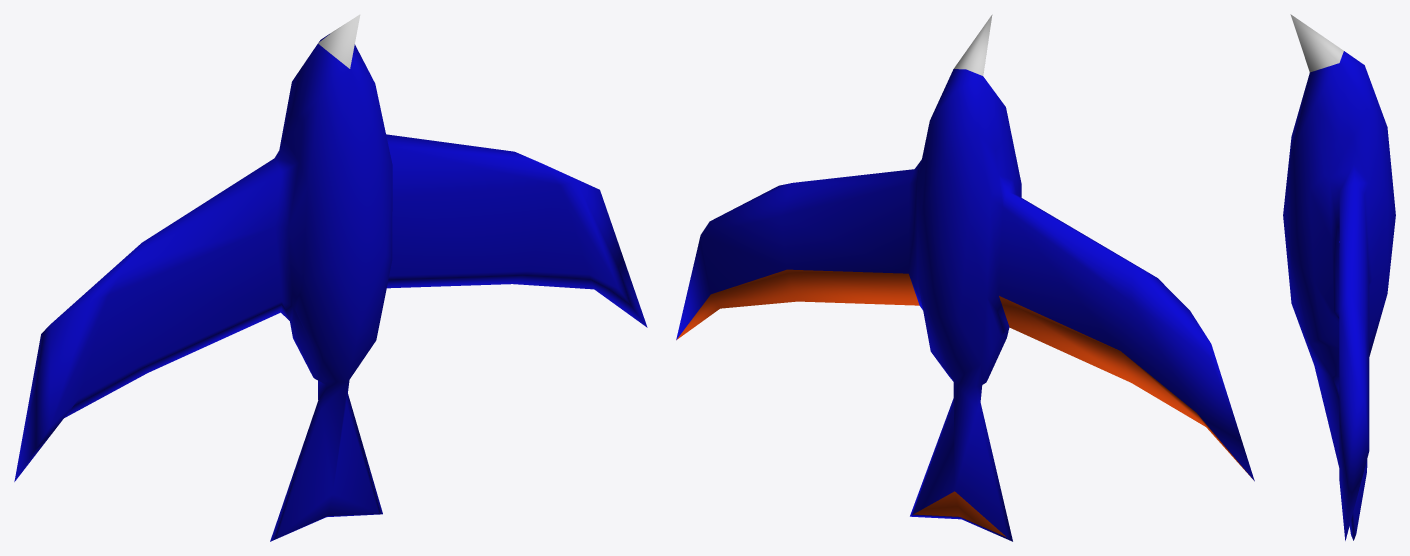
File: Bird.fbx
The picture shows the model from 3 angles, left to right: view 1: azimuth 30°, elevation 25°; view 2: azimuth 150°, elevation 25°; view 3: azimuth 270°, elevation 25°; orthographic projection. The views are drawn at different scales.
Visible parts, largest first — view 1: Bird; view 2: Bird; view 3: Bird.
Part boxes in pixels (x1,y1,x2,y2): Bird: (14, 14, 647, 541); Bird: (676, 14, 1254, 541); Bird: (1283, 14, 1395, 540).
Size of the model in its own units: 50.13 by 40.77 by 8.32.
